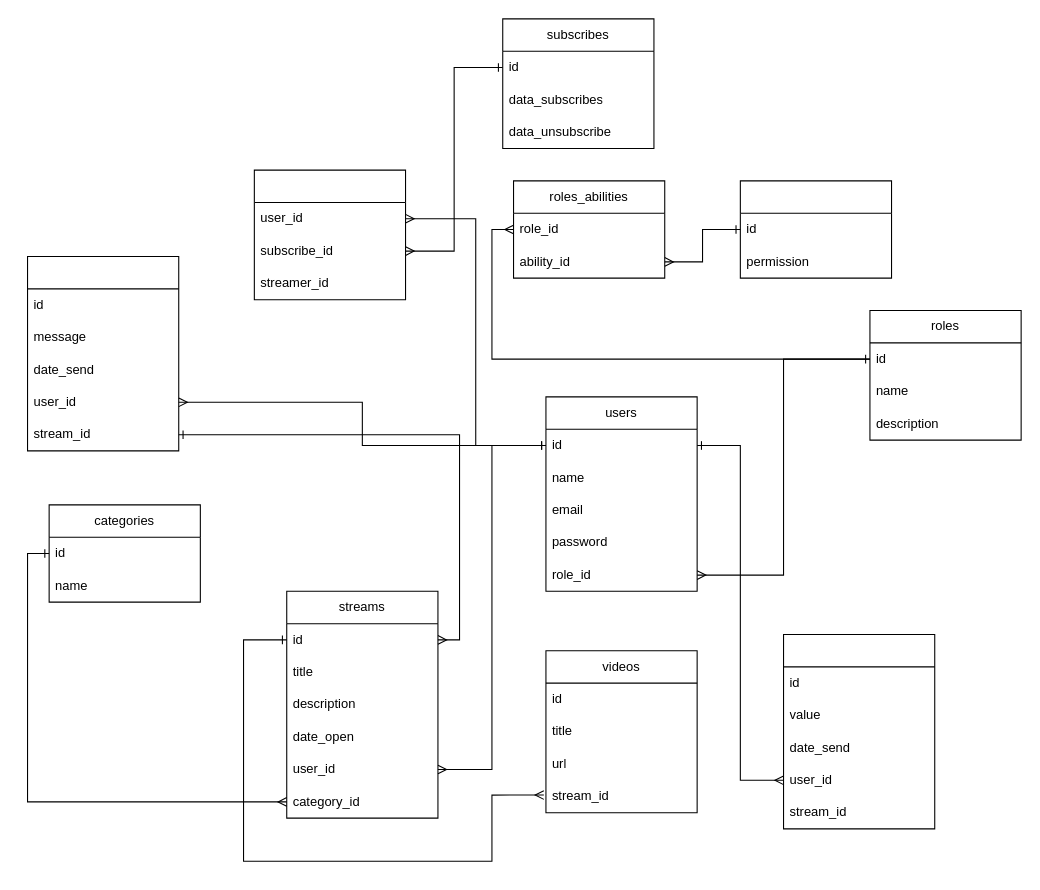
Some shapes in this 1040 by 890 pixel diagram are drawn without their labels. The box of each missing label's shape, as (x1, y1, x2, y2) in pixels:
abilities: (739, 180, 892, 278)
chats: (26, 255, 179, 451)
donations: (782, 633, 935, 829)
user_subscribe: (253, 169, 406, 300)
